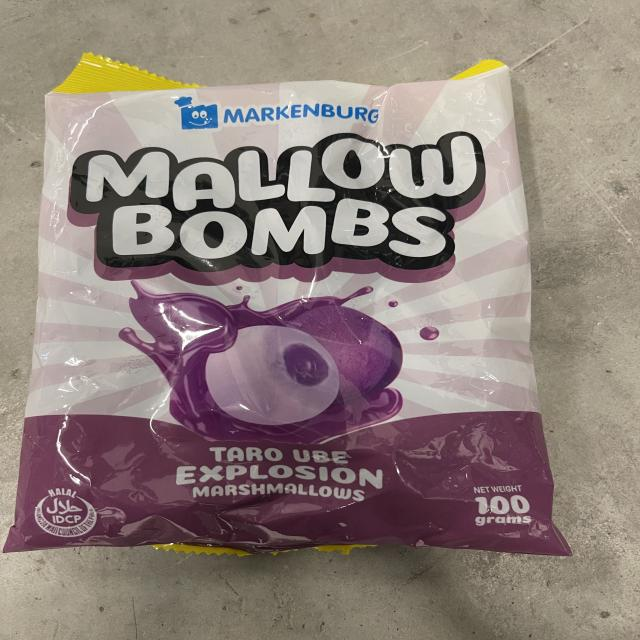object_name: (36, 73, 542, 558)
